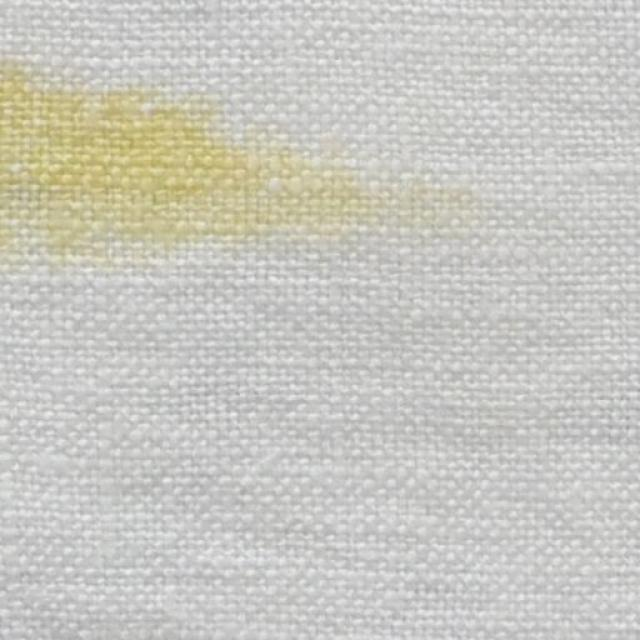Stain: (0, 62, 479, 268)
